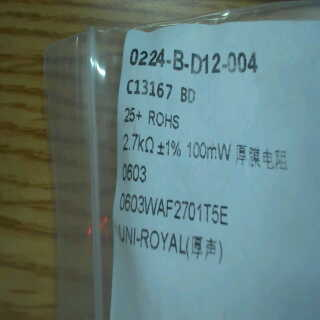2.7kR: (119, 130, 157, 156)
